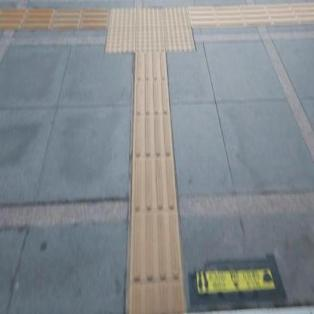Podoctatil: (128, 50, 188, 312), (96, 0, 209, 66), (191, 1, 314, 28), (0, 8, 107, 31)
